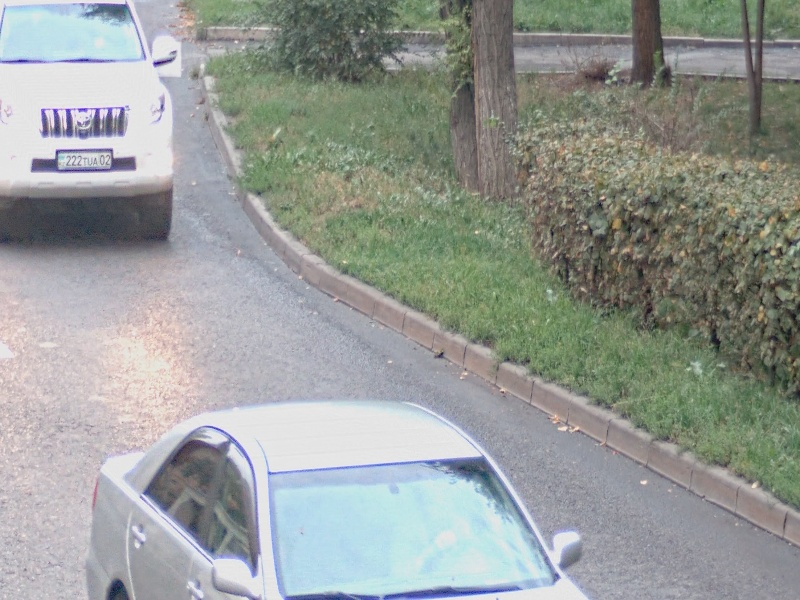plate: (56, 148, 113, 172)
